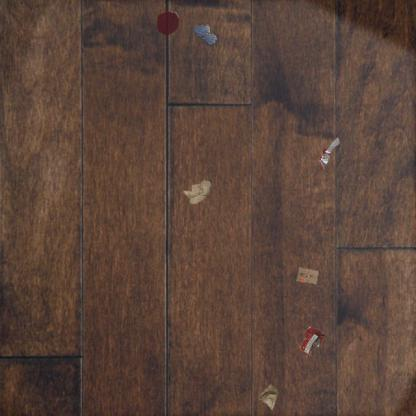dirty: (297, 324, 326, 358), (182, 178, 213, 206), (317, 136, 345, 167), (258, 382, 280, 410), (296, 267, 318, 284)
liquid: (156, 10, 180, 37), (192, 23, 218, 46)
